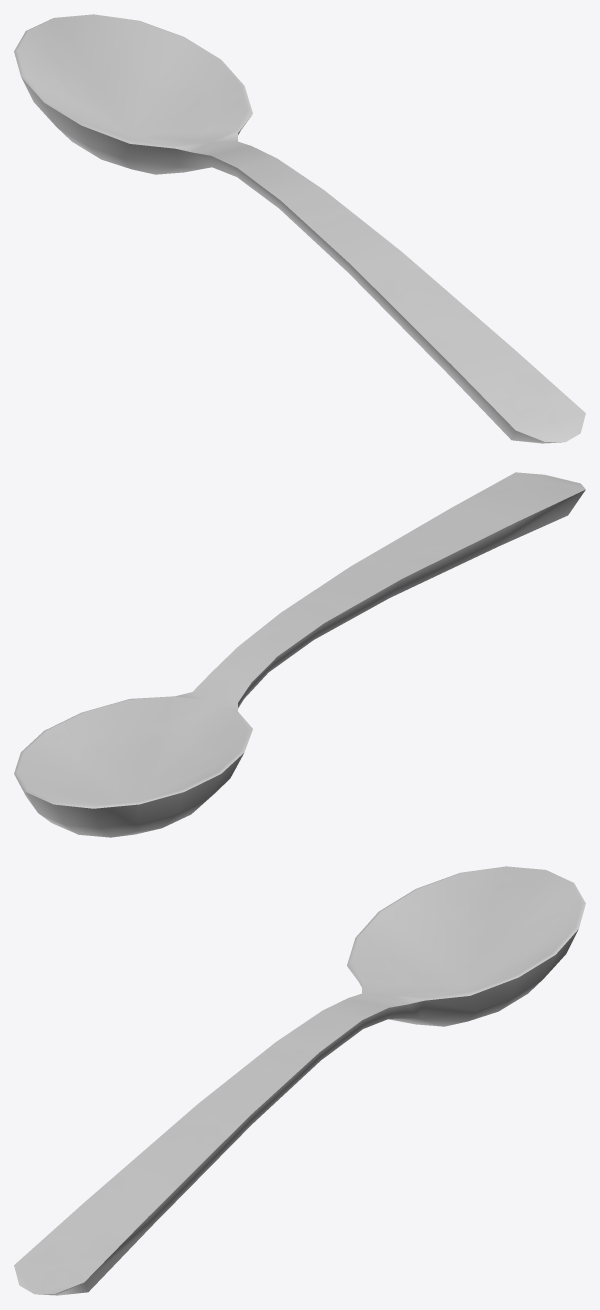
The model's file is Spoon.fbx.
3 views of the same model, one above another, from view 1: azimuth 30°, elevation 25°; view 2: azimuth 150°, elevation 25°; view 3: azimuth 330°, elevation 25° (orthographic).
Parts seen in each view (by area): view 1: Spoon; view 2: Spoon; view 3: Spoon.
Boxes of the visible parts, x1,y1,x2,y2 form: Spoon: [14, 14, 585, 443]; Spoon: [14, 472, 585, 837]; Spoon: [14, 866, 585, 1295].
Bounding box in the file's own units: 3.96 × 1.59 × 19.82.
